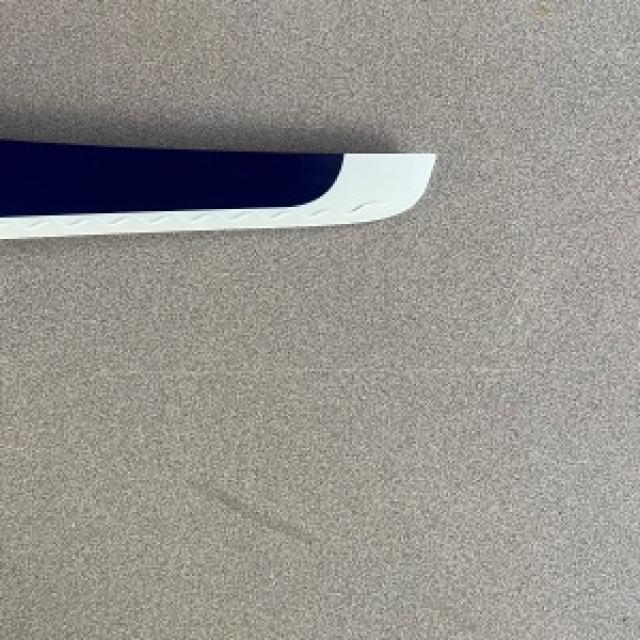healthy: (0, 139, 433, 237)
